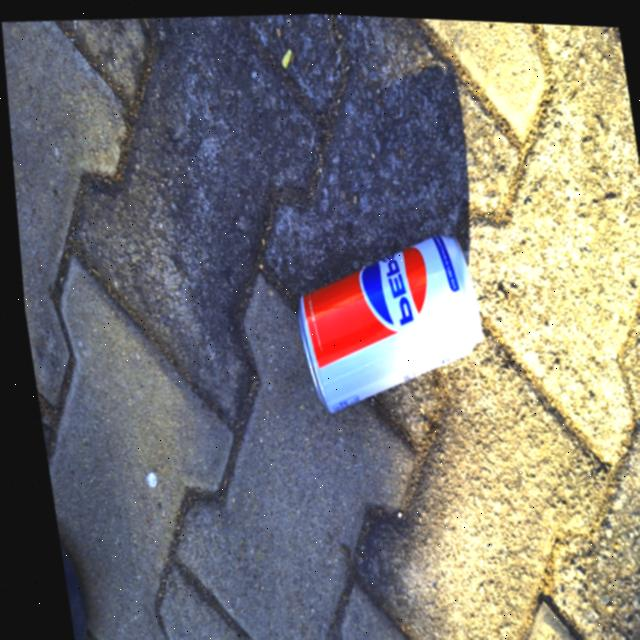Pepsi Retro: (282, 213, 494, 432)
